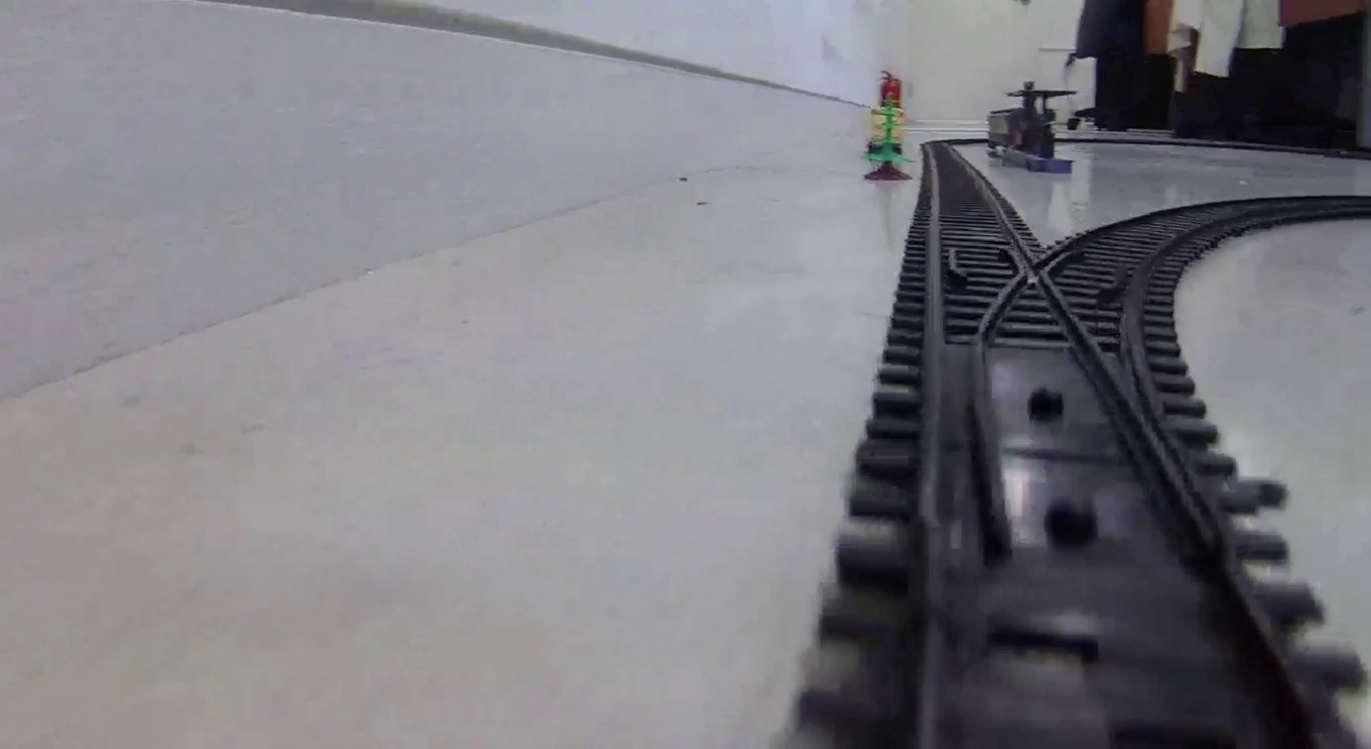tree: (867, 99, 914, 182)
